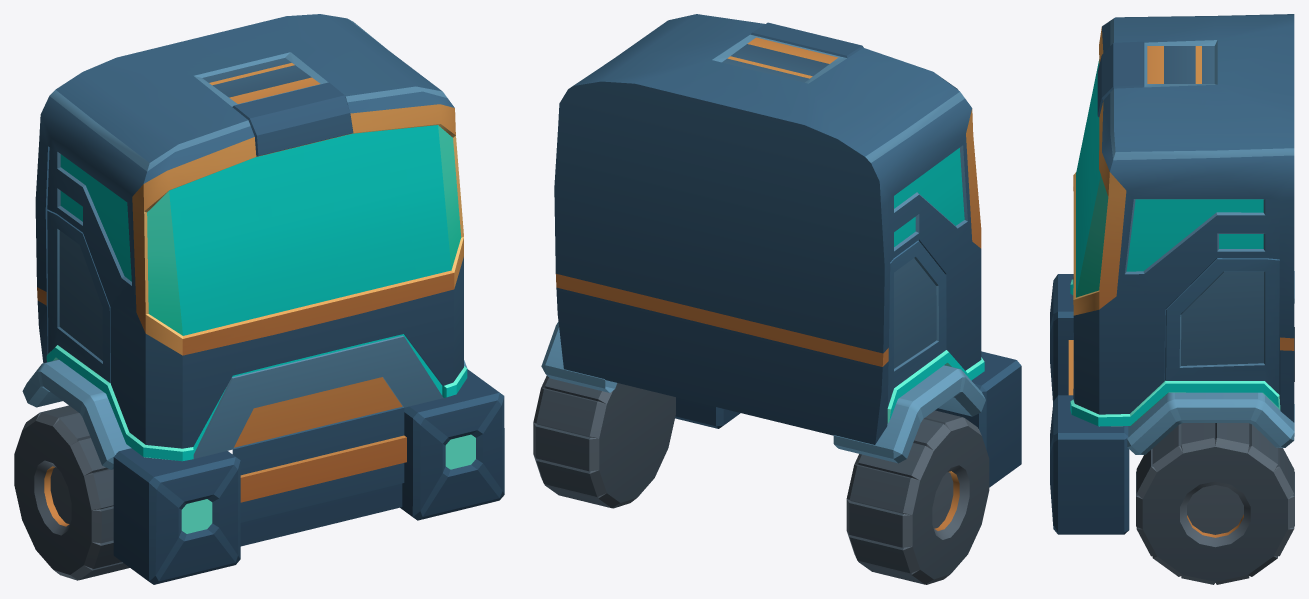
File: Front_Truck.fbx
3 renders of one model, left to right at view 1: azimuth 30°, elevation 25°; view 2: azimuth 150°, elevation 25°; view 3: azimuth 270°, elevation 25°, orthographic. The views are drawn at different scales.
Visible parts, largest first — view 1: Front_Truck, Wheel_R_Front_Truck; view 2: Cap_Front_Truck, Front_Truck, Wheel_R_Front_Truck, Wheel_L_Front_Truck; view 3: Front_Truck, Wheel_L_Front_Truck.
Part boxes in pixels (<box>): Front_Truck: <box>22,14,504,584</box>; Wheel_R_Front_Truck: <box>14,405,129,580</box>; Cap_Front_Truck: <box>554,81,884,444</box>; Front_Truck: <box>541,14,1021,487</box>; Wheel_R_Front_Truck: <box>846,410,989,584</box>; Wheel_L_Front_Truck: <box>533,375,675,508</box>; Front_Truck: <box>1050,14,1294,534</box>; Wheel_L_Front_Truck: <box>1136,423,1294,584</box>.
Bounding box in the file's own units: 234 × 273 × 138.
2 materials, 2 textured.
